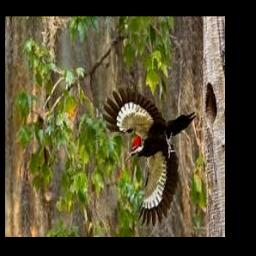Woodpecker: (100, 85, 196, 224)
